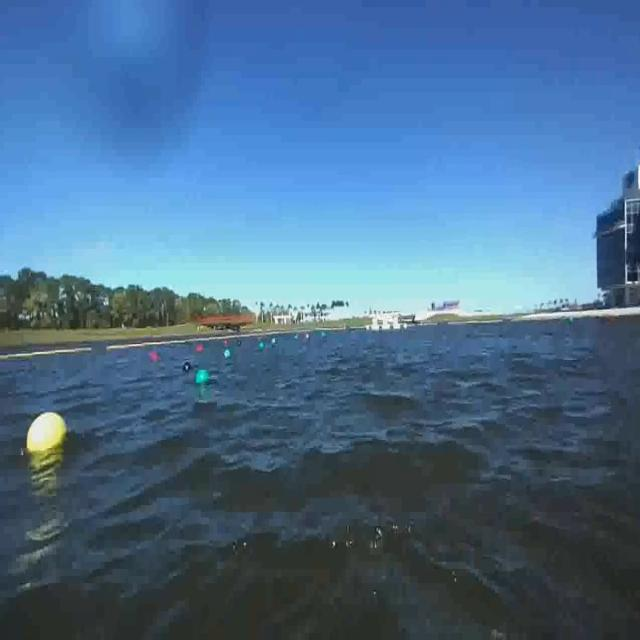black-buoy: (185, 357, 192, 376)
green-buoy: (197, 368, 211, 385)
red-buoy: (149, 348, 162, 367)
yellow-buoy: (27, 414, 67, 456)
